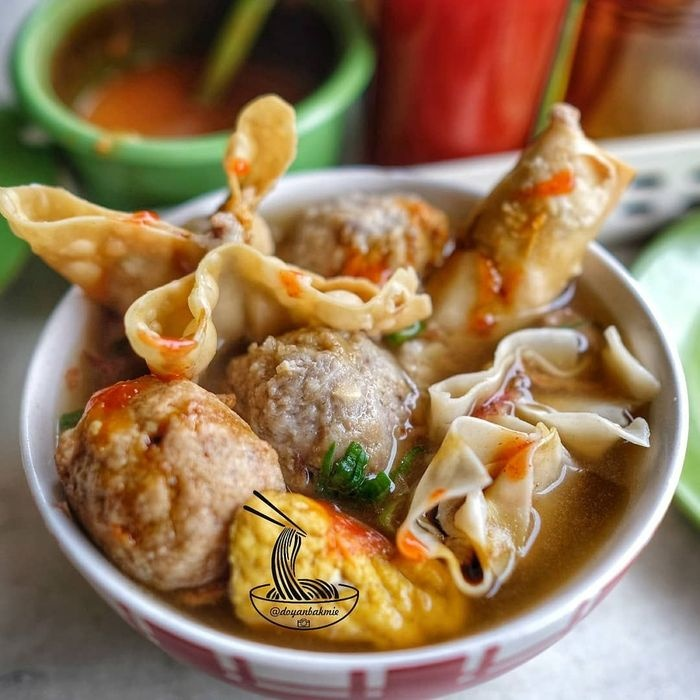bakso_malang: (1, 91, 659, 652)
